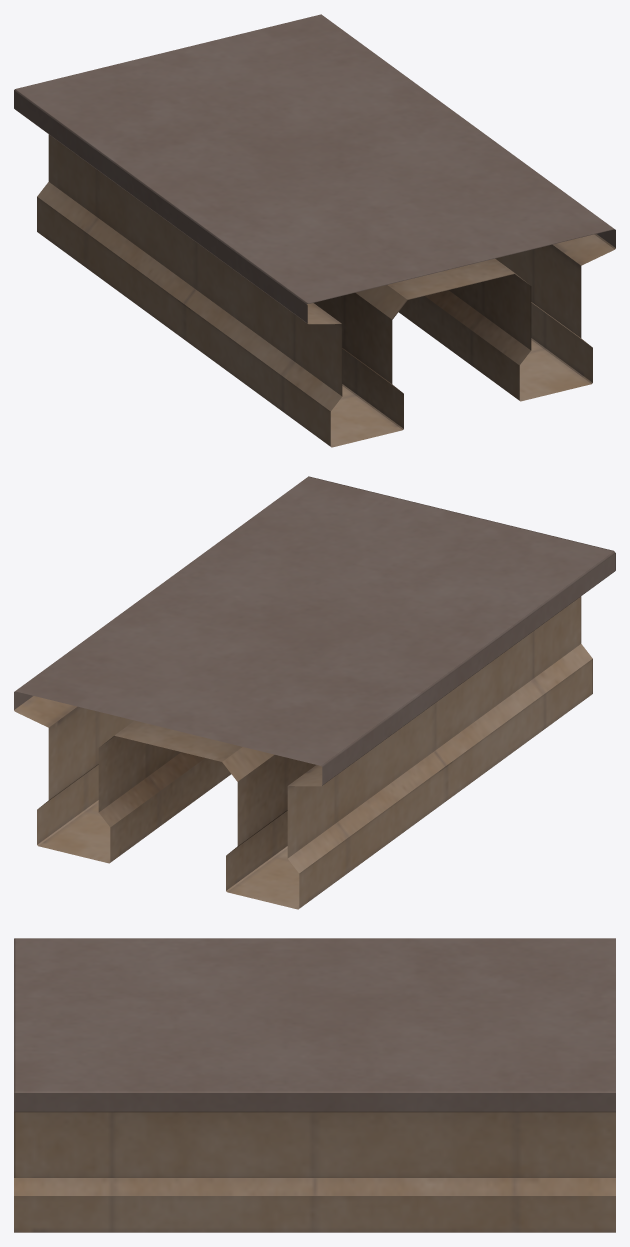
Rendered from general_beam_fill.obj.
3 views of the same model, one above another, from view 1: azimuth 30°, elevation 25°; view 2: azimuth 150°, elevation 25°; view 3: azimuth 270°, elevation 25° (orthographic). The views are drawn at different scales.
Visible parts, largest first — view 1: general_beam_fill; view 2: general_beam_fill; view 3: general_beam_fill.
Boxes of the visible parts, left/top/right/bottom form: general_beam_fill: left=14, top=14, right=615, bottom=447; general_beam_fill: left=14, top=476, right=615, bottom=909; general_beam_fill: left=14, top=938, right=615, bottom=1232.
Bounding box in the file's own units: 2.5 × 1.16 × 4.12.
Materials: 2 (2 with a texture image).
